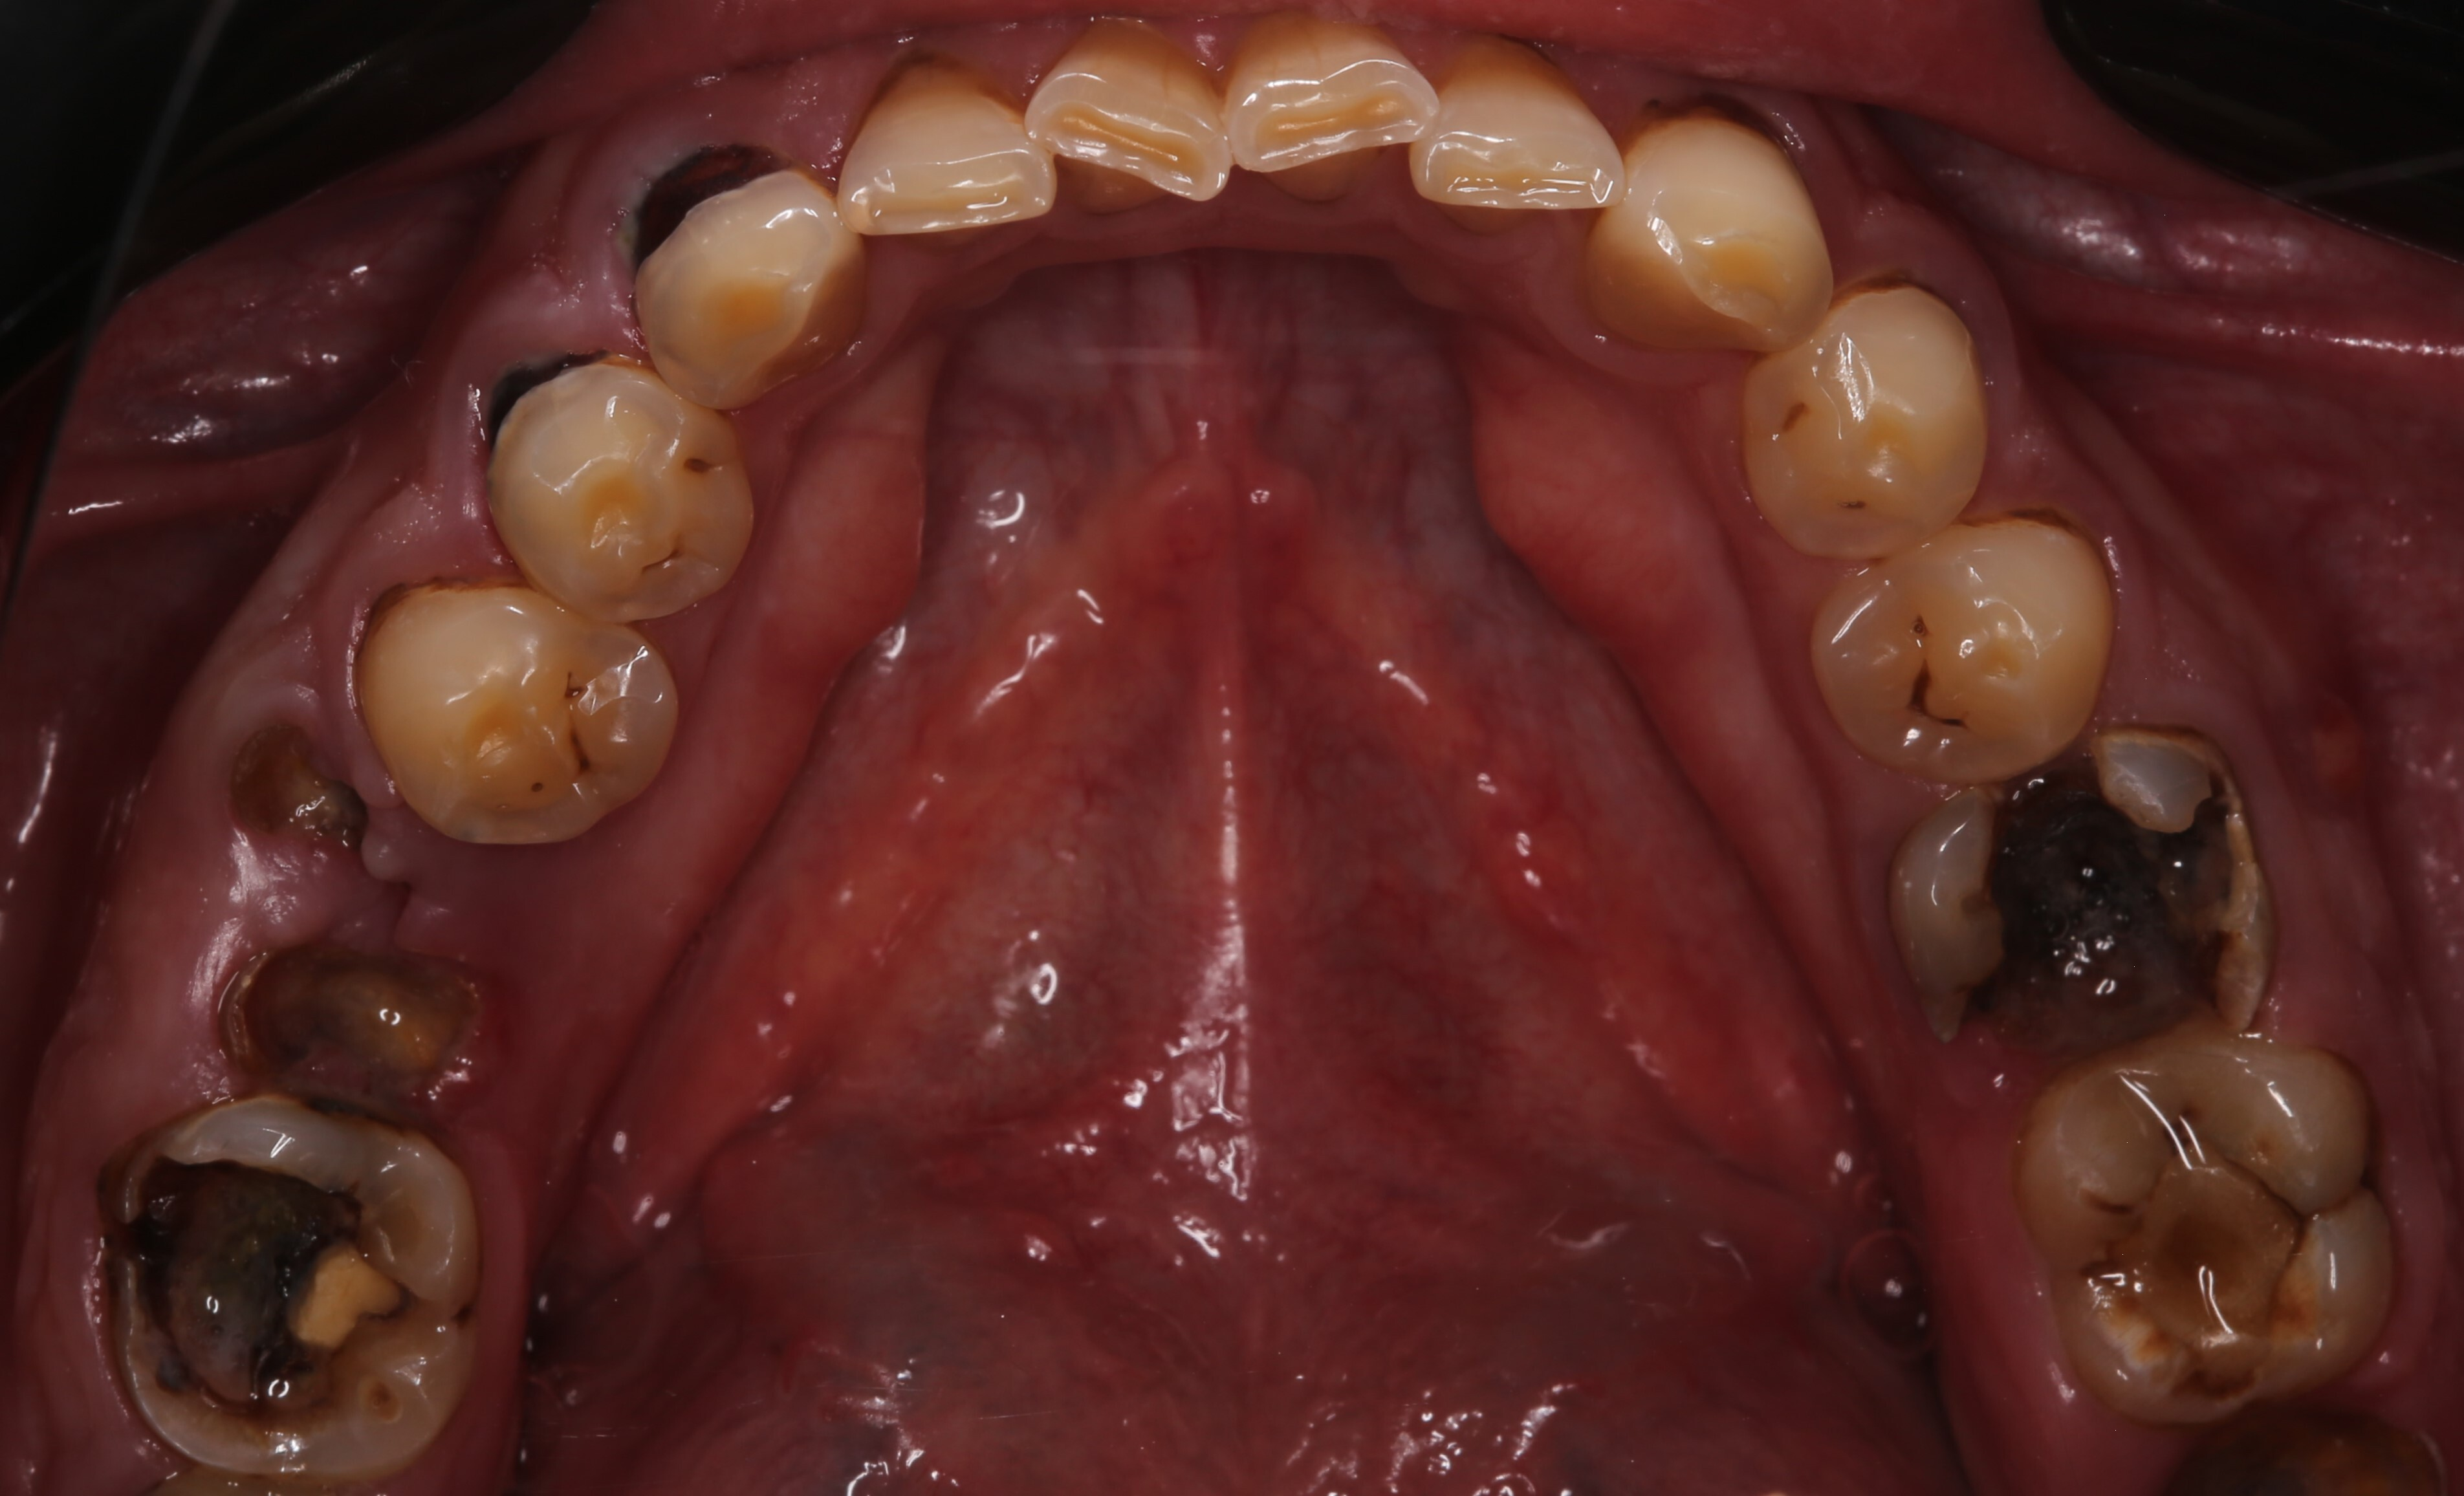UL1BC_decay: (1725, 278, 1987, 563)
UL1M_decay: (1892, 743, 2281, 1095)
UL2BC_decay: (1797, 517, 2114, 785)
UL2M_decay: (2013, 1026, 2390, 1433)
ULCI_decay: (1232, 26, 1438, 220)
ULC_decay: (1572, 125, 1844, 363)
ULLI_decay: (1410, 33, 1632, 253)
UR1BC_decay: (473, 347, 769, 632)
UR2BC_decay: (368, 581, 690, 832)
UR2M_decay: (84, 1077, 486, 1496)
URCI_decay: (1033, 25, 1237, 204)
URC_decay: (627, 155, 866, 394)
URLI_decay: (829, 58, 1063, 253)
